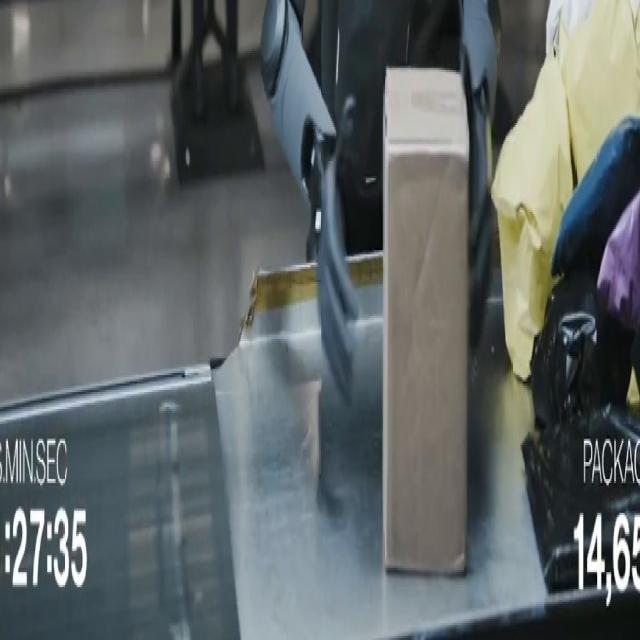package: (383, 68, 469, 574), (492, 56, 573, 379), (522, 407, 639, 591), (531, 272, 633, 428), (561, 0, 639, 182), (552, 117, 639, 277), (598, 191, 639, 328), (546, 0, 593, 57)
